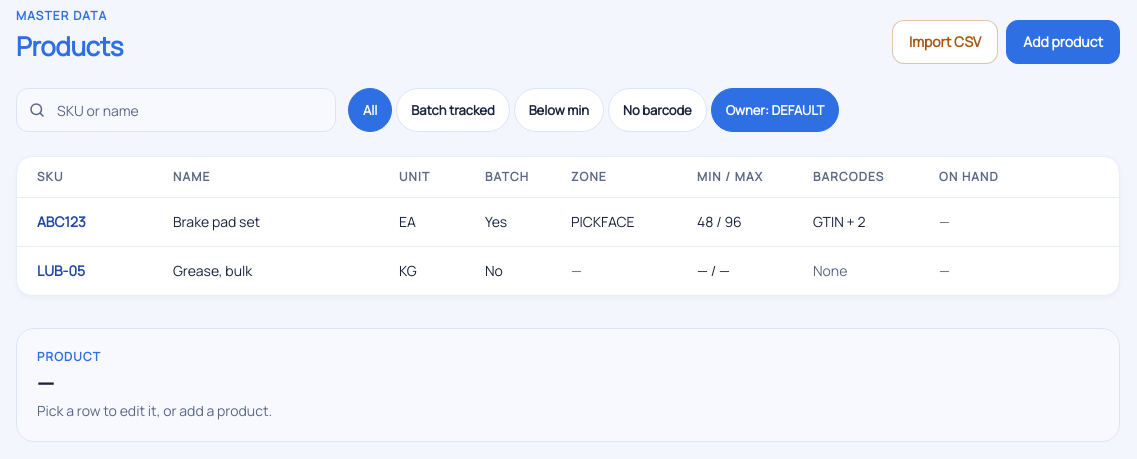
Test case: Products › checks the pick face only when Below min is clicked, then filters on it
Expected: the text "ABC123" is shown, [37,212,86,231]
Click the button "Below min". click: (559, 110)
box: [514,88,604,132]
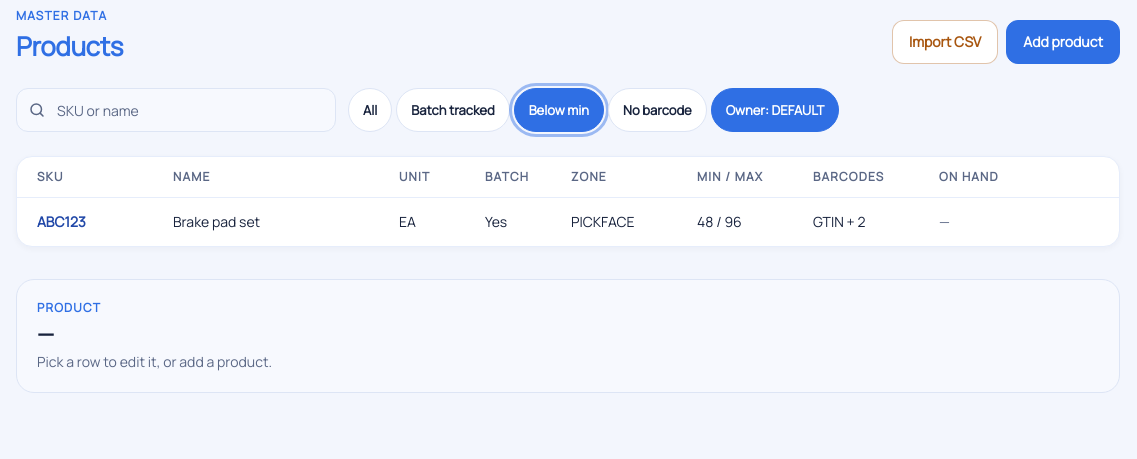
Expected: the text "ABC123" is shown, [37,212,86,231]
Now the button "LUB-05" is gone
the answer is kept: coming back to the chip asks nothing again
Click the button "All". click: (370, 110)
box: [348,88,392,132]
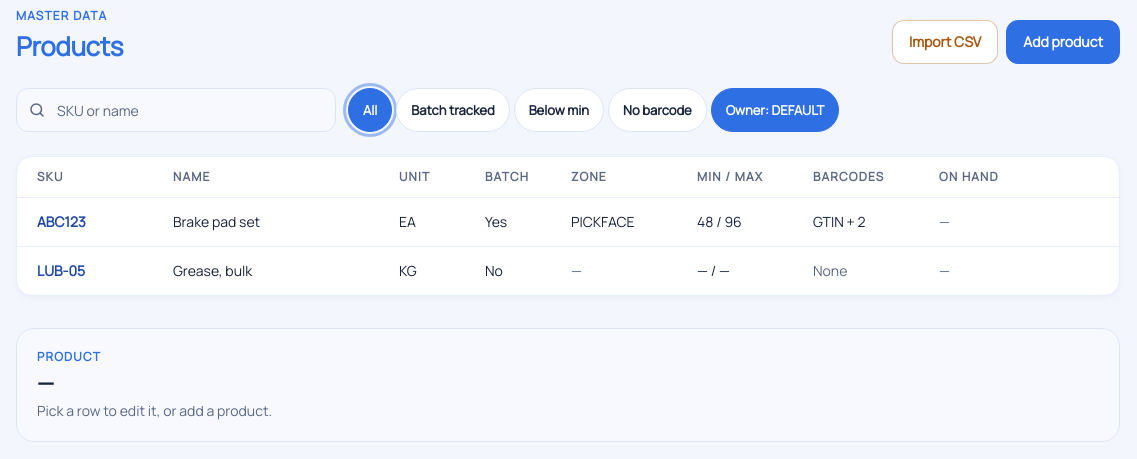
Now the text "LUB-05" is shown, box [37,261,85,280]
Click the button "Below min". click: (559, 110)
box: [514,88,604,132]
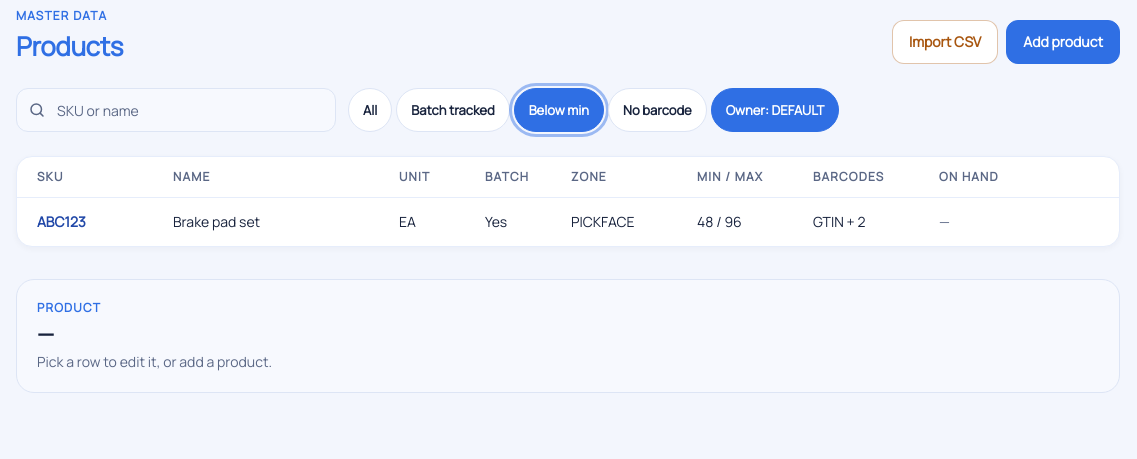
Now the button "LUB-05" is gone
